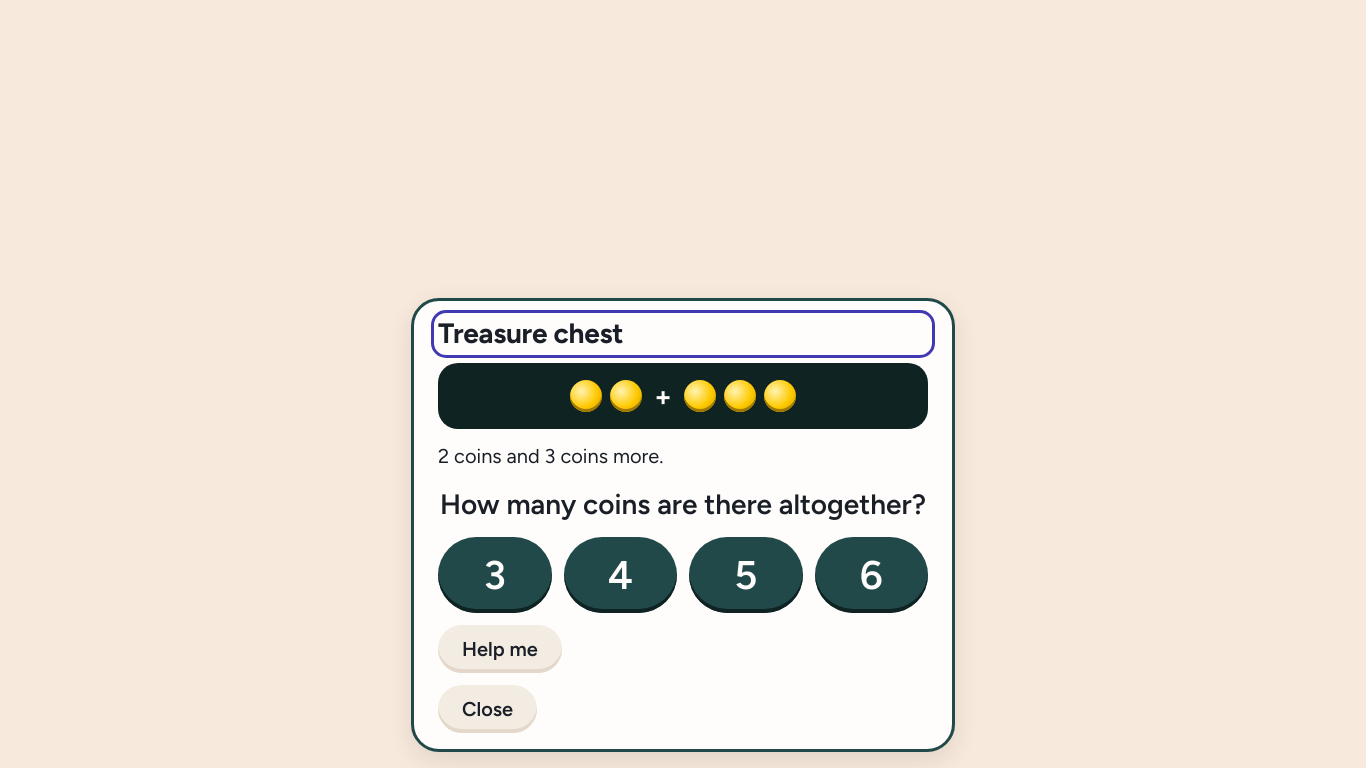
Scenario: the chest › on the server’s yes: opens the chest in the world, reveals the doubloon, and completes the quest
The width and height of the screenshot is (1366, 768).
Click the button "5". click: (746,575)
box: [689,537,802,613]
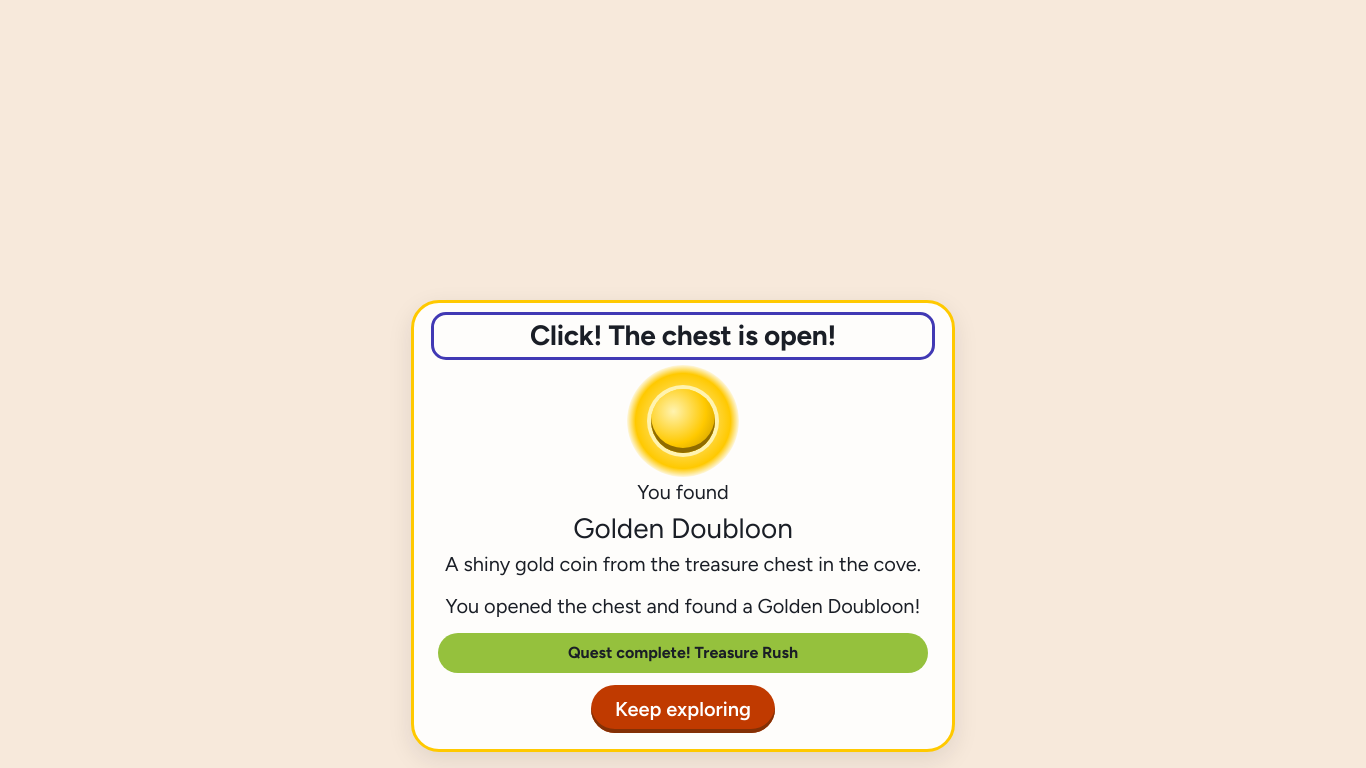
Check: the dialog "Click! The chest is open!" shows "Golden Doubloon", box [573,511,793,545]
Check: the dialog "Click! The chest is open!" shows "You opened the chest and found a Golden Doubloon!", box [446,594,920,618]
Check: the dialog "Click! The chest is open!" shows "Quest complete! Treasure Rush", box [411,300,955,752]
